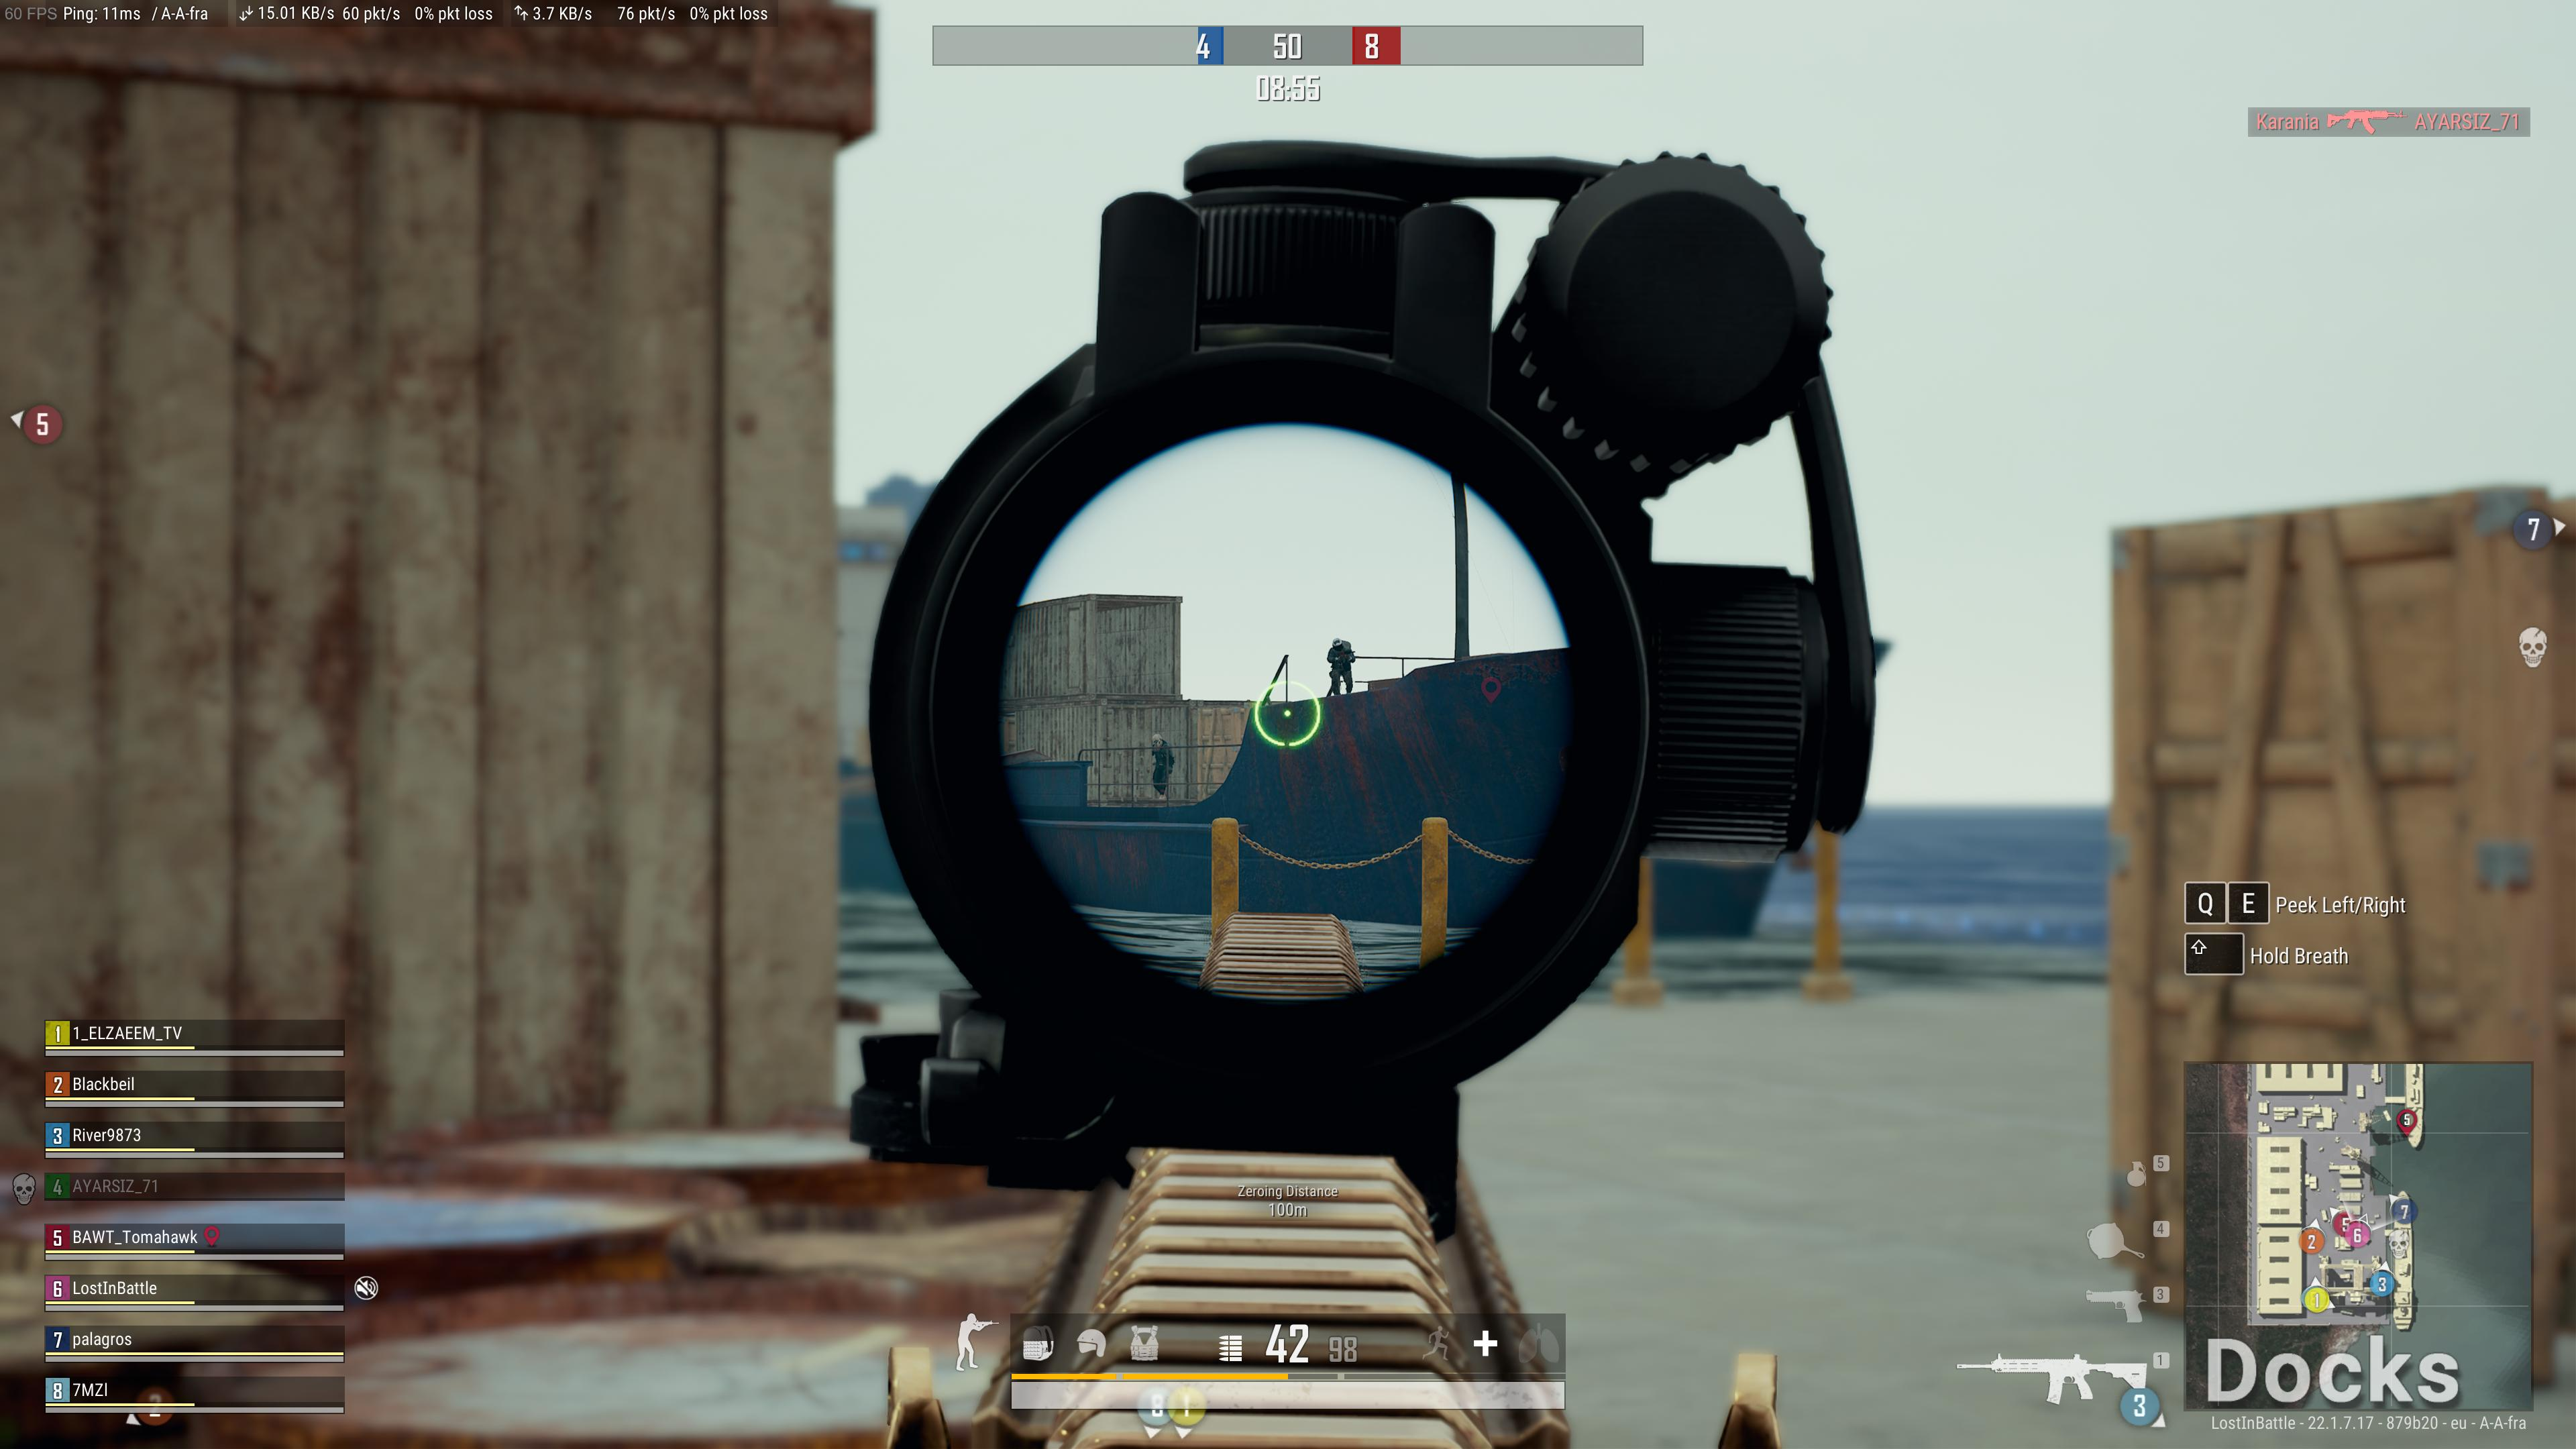enemy: (1146, 731, 1175, 801), (1325, 637, 1353, 697)
enemy_head: (1330, 637, 1343, 651), (1152, 732, 1161, 747)
